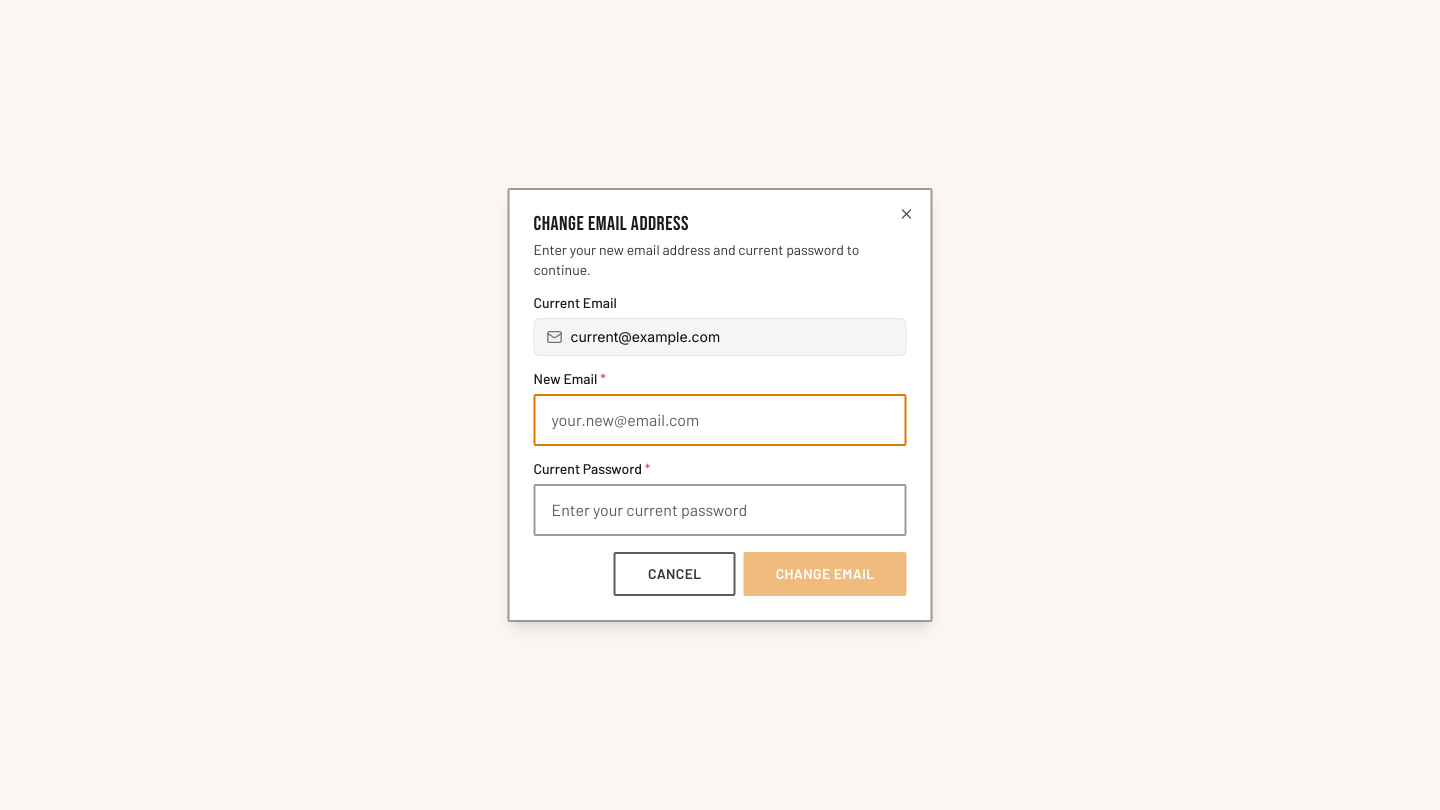
Test: EmailChangeForm › Form Validation › should require new email
This screenshot has width=1440, height=810.
In the password field labelled "Current Password *": (720, 510) [534, 484, 906, 536], type "password123"
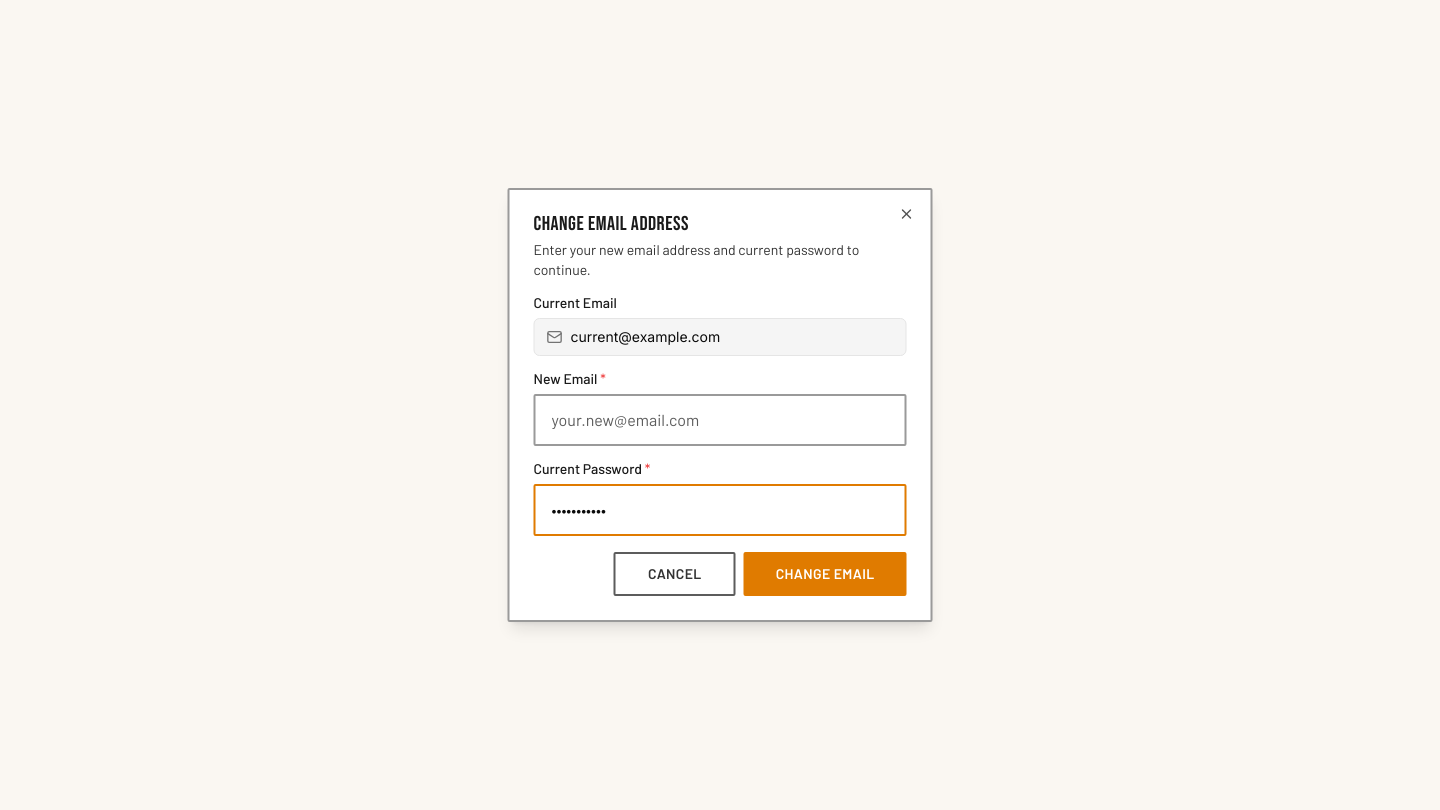
Click the button "Change Email": (825, 574) [744, 552, 906, 596]
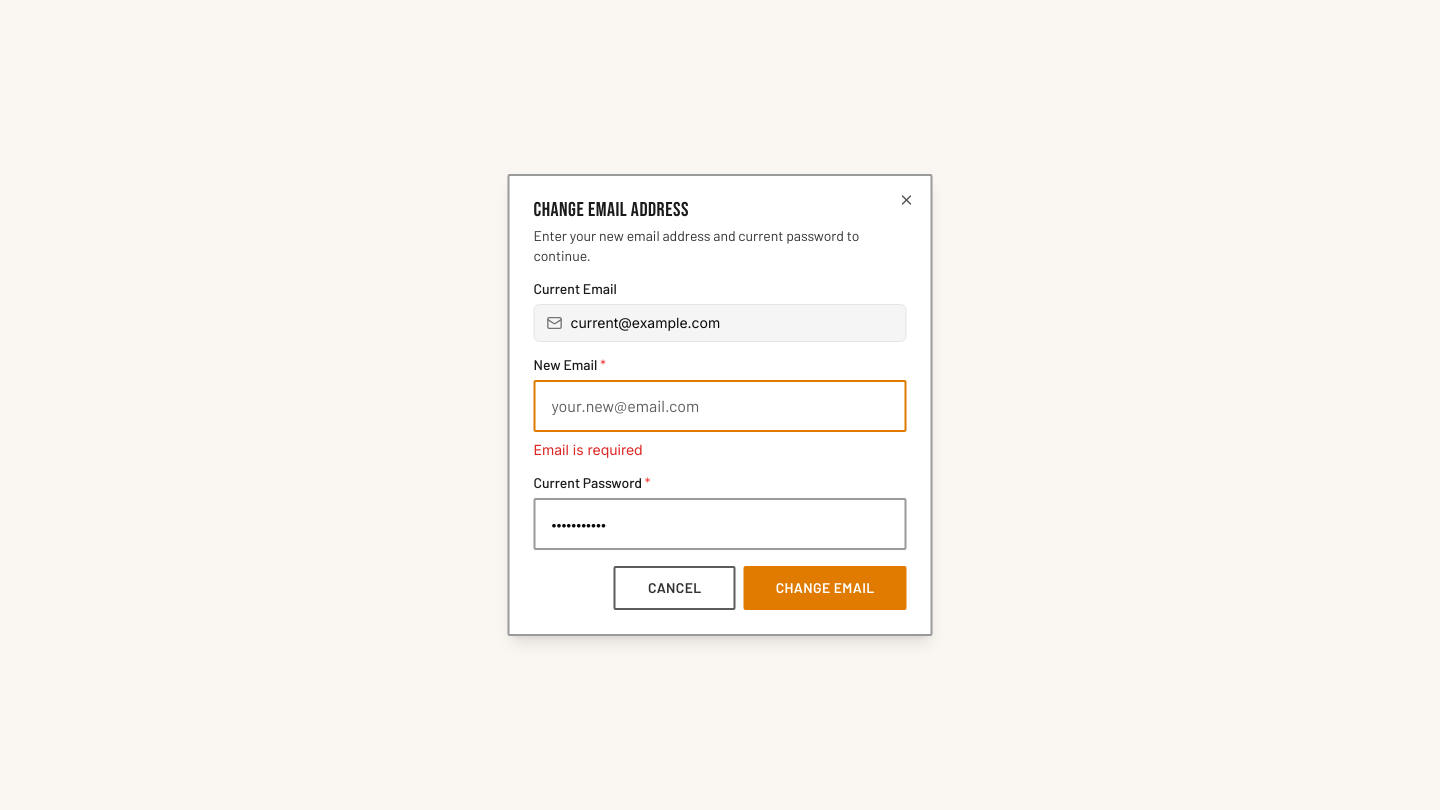
Result: the text "Email is required" is shown at [534, 441, 643, 458]
